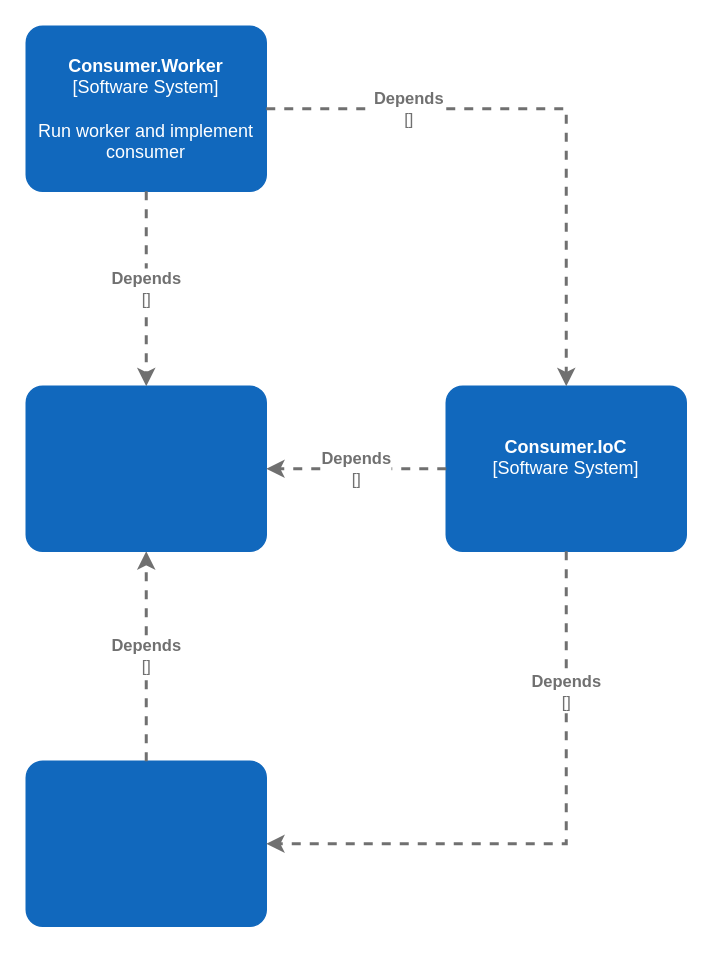
The diagram is 713 pixels wide and 953 high, and some of its shapes have lost their labels. Here are the shapes that lost their labels. From the top down, the centre of each, then its label:
(145,468): Consumer.Business [Software System]
(145,843): Consumer.InfraData [Software System]
